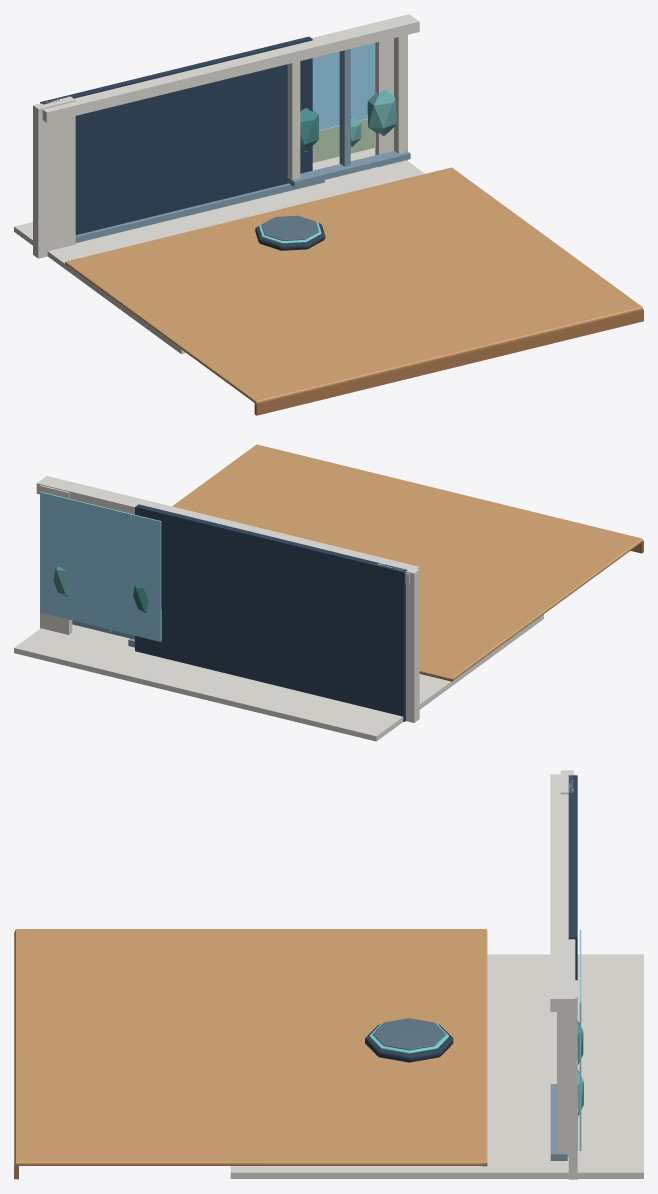
File: showcase_workbench_v01.glb
The picture shows the model from 3 angles, top to bottom: view 1: azimuth 30°, elevation 25°; view 2: azimuth 150°, elevation 25°; view 3: azimuth 270°, elevation 25°; orthographic projection. The views are drawn at different scales.
Visible parts, largest first — view 1: room_shell, preview_plinth; view 2: room_shell; view 3: room_shell, preview_plinth.
Part boxes in pixels (x1,y1,x2,y2): room_shell: (14,14,643,415); preview_plinth: (255,215,325,250); room_shell: (14,444,643,741); room_shell: (14,770,643,1179); preview_plinth: (365,1018,453,1062).
Size of the model in its own units: 18.7 by 6.9 by 21.34.
1 material, 1 textured.
